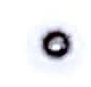cancer: (31, 20, 87, 76)
